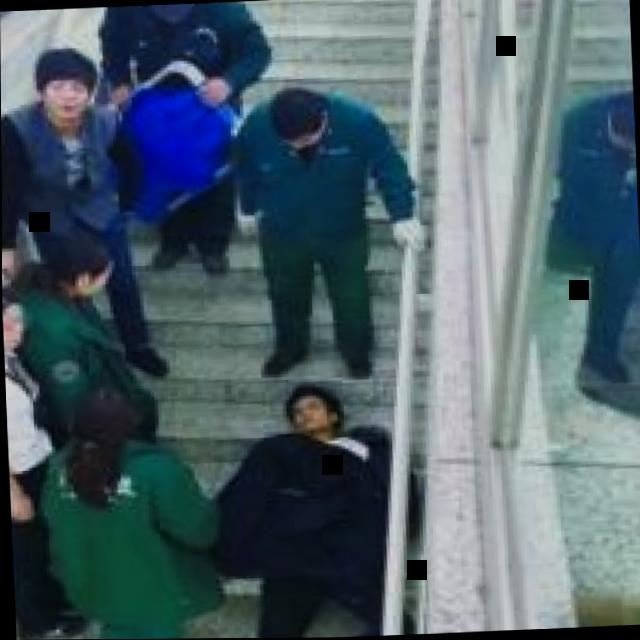Fall-Detected: (189, 358, 416, 639)
